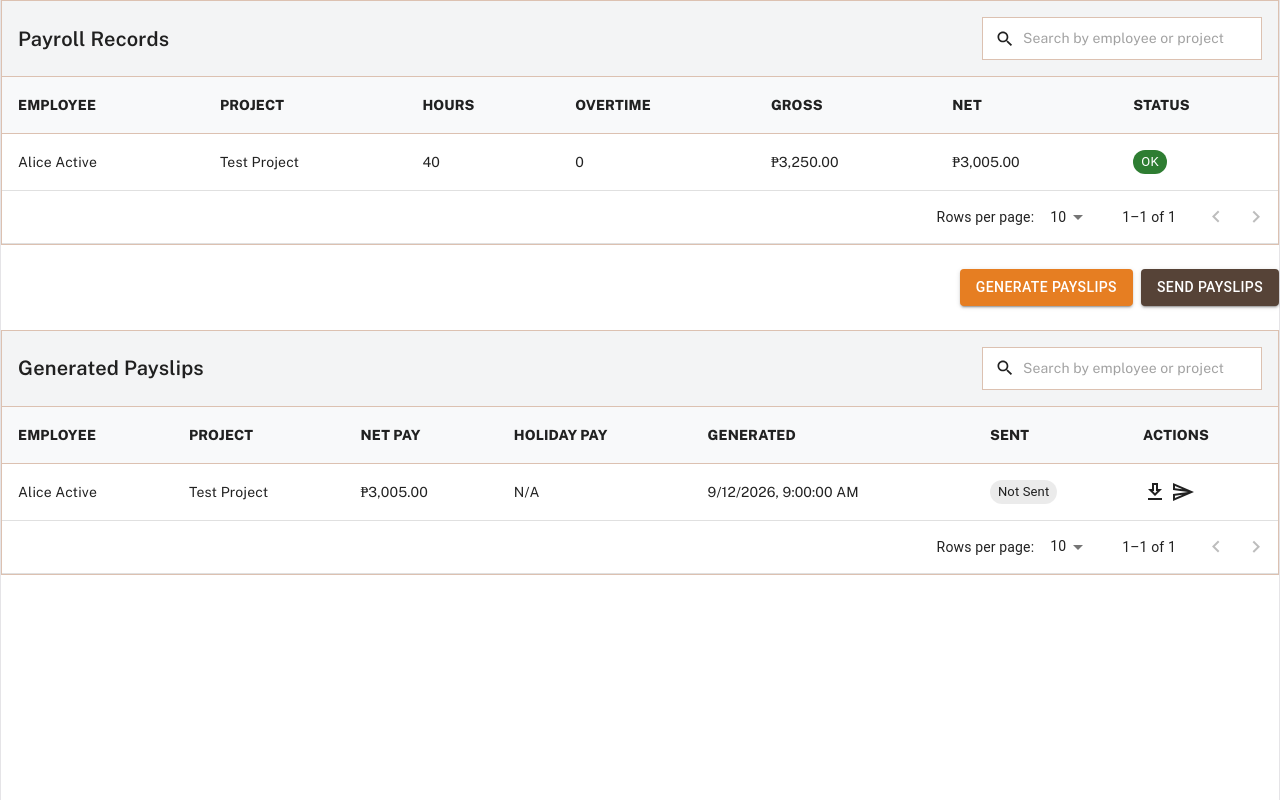
Test: PayrollPeriodPage MainContent › sends payslips after confirming and reports the result
Click the button "Send Payslips". click: (1210, 287)
box: [1141,269,1279,306]
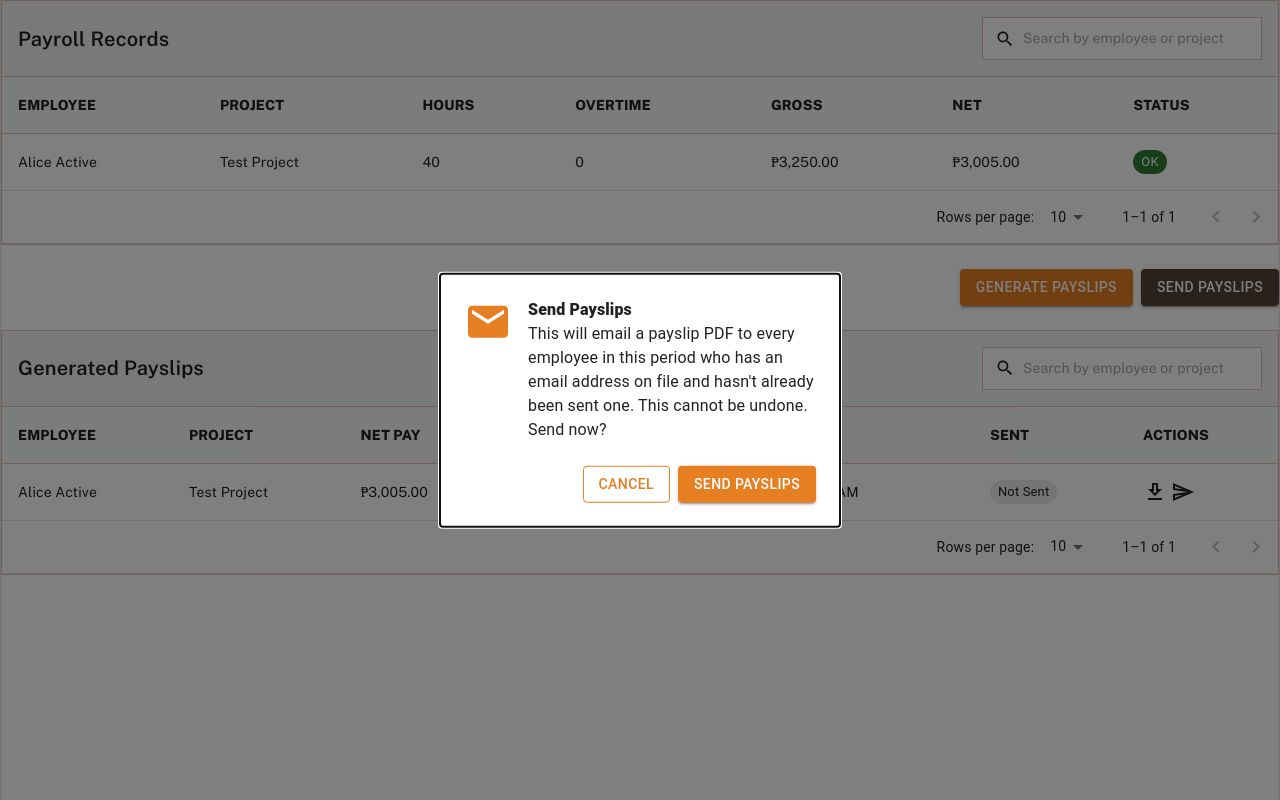
Click the button "Send Payslips". click: (747, 484)
box: [678,466,816,502]
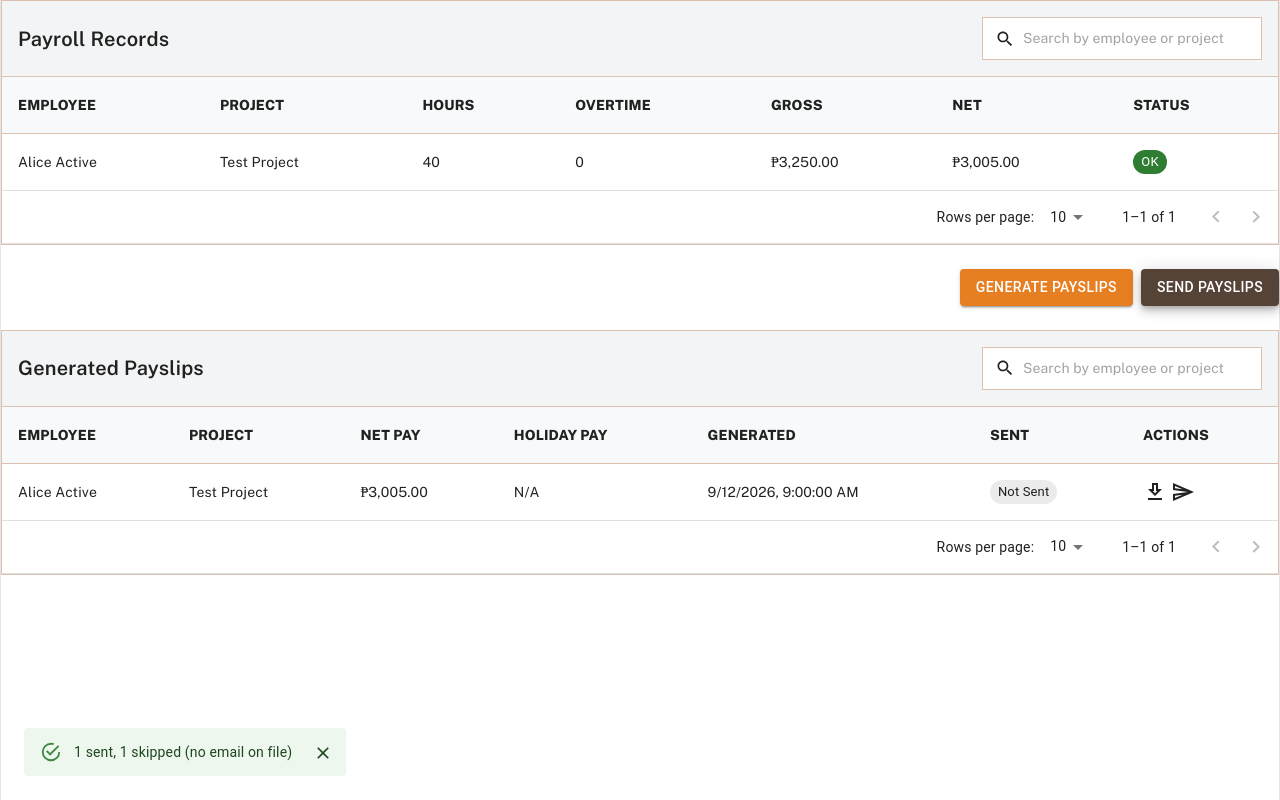
Expected: the text "1 sent, 1 skipped (no email on file)" is shown, [74,744,292,760]
